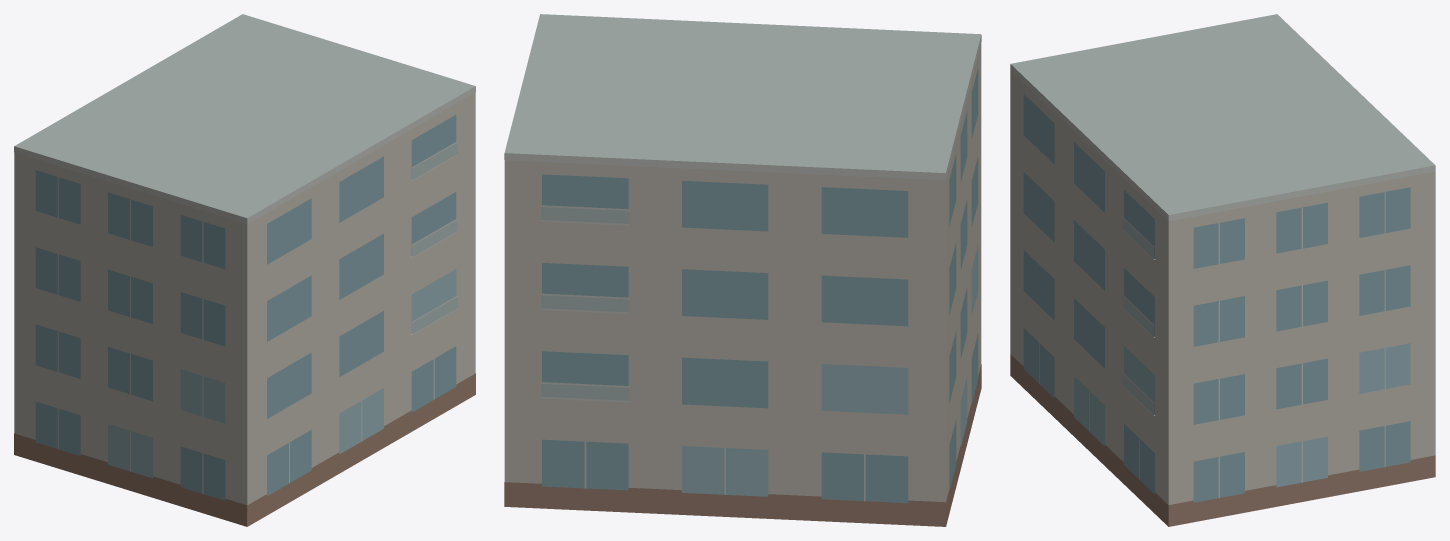
Rendered from residential-c1272111-5bbb-47a3-b175-03cbfa9964b0.glb.
3 renders of one model, left to right at view 1: azimuth 30°, elevation 25°; view 2: azimuth 150°, elevation 25°; view 3: azimuth 270°, elevation 25°, orthographic. The views are drawn at different scales.
Parts seen in each view (by area): view 1: residential-c1272111-5bbb-47a3-b175-03cbfa9964b0.tmp; view 2: residential-c1272111-5bbb-47a3-b175-03cbfa9964b0.tmp; view 3: residential-c1272111-5bbb-47a3-b175-03cbfa9964b0.tmp.
Boxes of the visible parts, x1,y1,x2,y2 form: residential-c1272111-5bbb-47a3-b175-03cbfa9964b0.tmp: (14,14,475,526); residential-c1272111-5bbb-47a3-b175-03cbfa9964b0.tmp: (504,14,981,526); residential-c1272111-5bbb-47a3-b175-03cbfa9964b0.tmp: (1010,14,1435,526).
Bounding box in the file's own units: 16.88 × 12.2 × 15.08.
